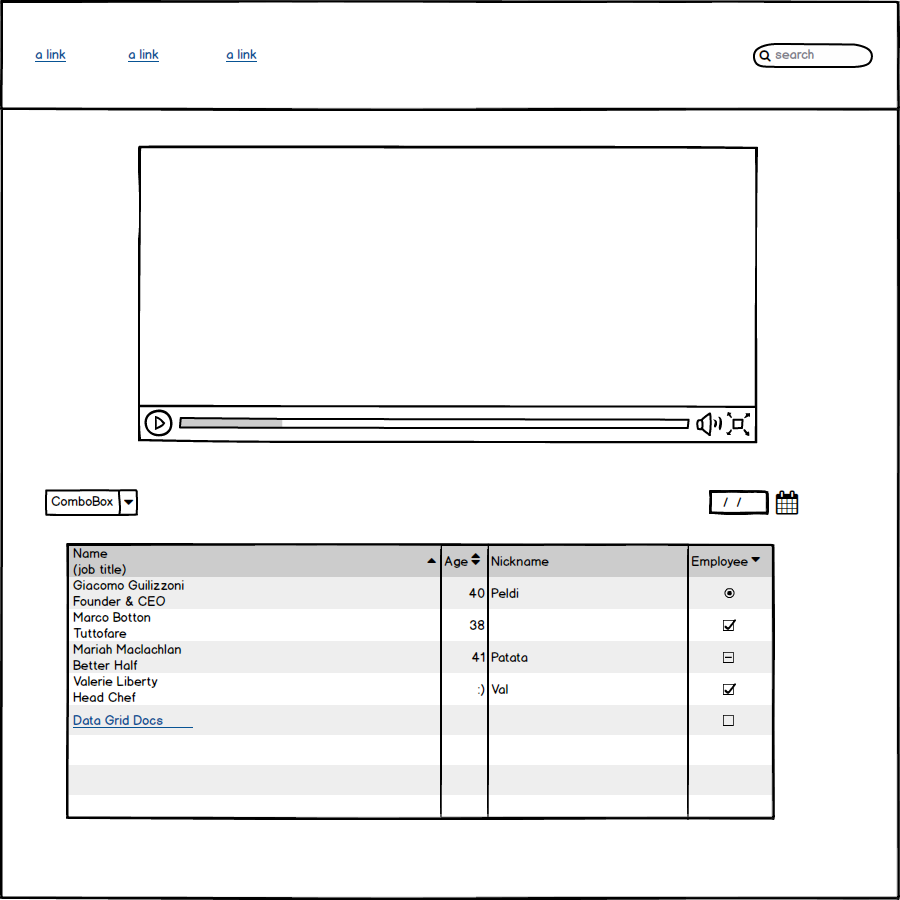date_picker: (696, 478, 811, 521)
navlink: (119, 41, 168, 67), (28, 44, 75, 69), (223, 43, 265, 66)
search: (744, 36, 874, 74)
select_box: (37, 481, 142, 525)
table: (55, 538, 790, 830)
video: (133, 138, 764, 452)
